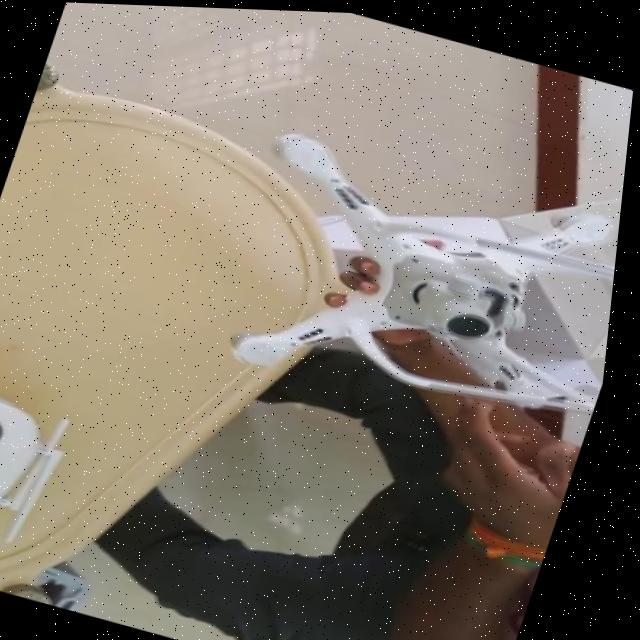drones: (159, 42, 637, 471)
